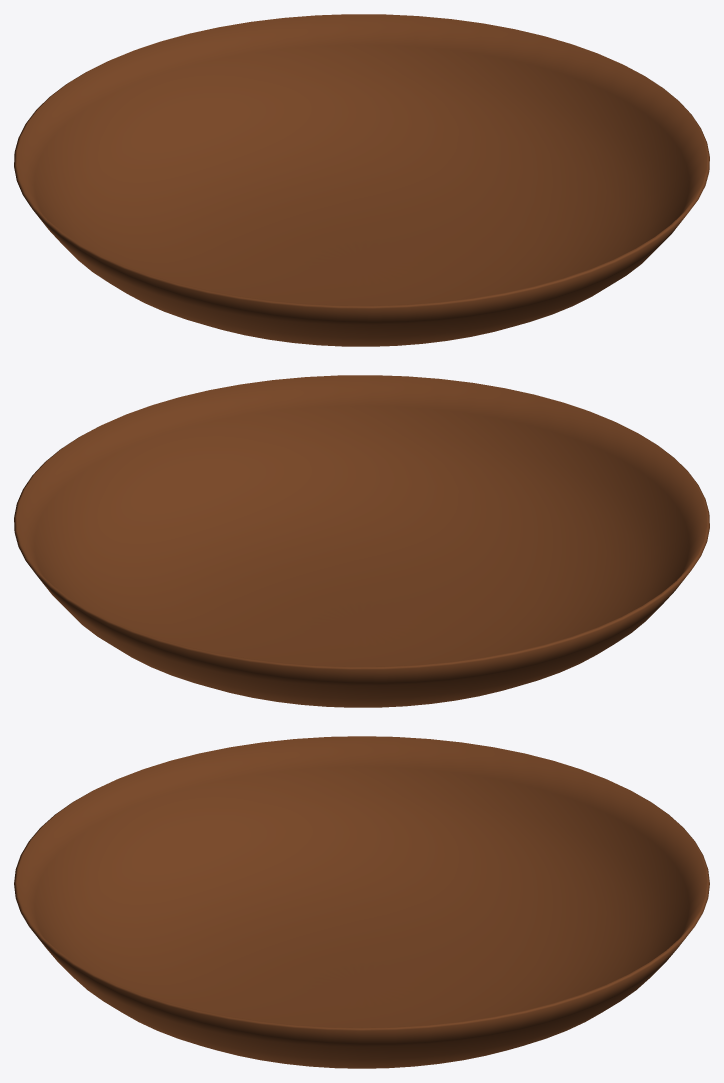
Rendered from Plate.fbx.
The picture shows the model from 3 angles, top to bottom: view 1: azimuth 30°, elevation 25°; view 2: azimuth 150°, elevation 25°; view 3: azimuth 270°, elevation 25°; orthographic projection.
Visible parts, largest first — view 1: Sphere; view 2: Sphere; view 3: Sphere.
Boxes of the visible parts, left/top/right/bottom form: Sphere: left=14, top=14, right=709, bottom=346; Sphere: left=14, top=375, right=709, bottom=707; Sphere: left=14, top=736, right=709, bottom=1068.
Size of the model in its own units: 184 by 31.24 by 184.
